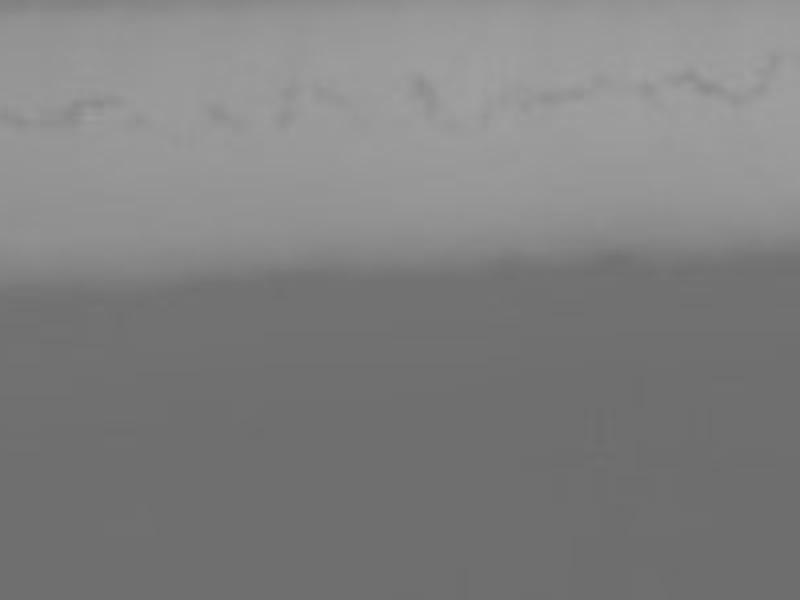defect: (513, 86, 587, 116), (665, 66, 729, 100), (406, 69, 446, 122), (67, 94, 119, 127), (305, 83, 357, 108), (202, 98, 239, 127), (479, 96, 504, 134), (737, 80, 769, 109), (2, 104, 32, 134), (760, 51, 788, 80), (629, 75, 657, 100), (121, 108, 153, 128), (275, 102, 296, 130), (586, 72, 611, 93), (279, 78, 299, 102)
